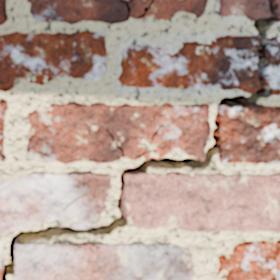brick: (27, 103, 209, 163), (124, 173, 279, 232), (15, 242, 192, 279), (0, 173, 109, 232), (0, 32, 105, 90), (219, 105, 279, 163), (217, 241, 279, 279), (28, 0, 126, 23), (146, 0, 206, 19), (124, 0, 150, 18), (0, 101, 6, 160), (0, 0, 6, 24), (0, 249, 2, 279)
broken_brick: (117, 34, 259, 93), (218, 0, 268, 21), (265, 36, 279, 95), (275, 0, 279, 22)
crack: (1, 0, 278, 279), (105, 128, 124, 157), (137, 0, 154, 18), (119, 0, 131, 20), (223, 255, 237, 262)
